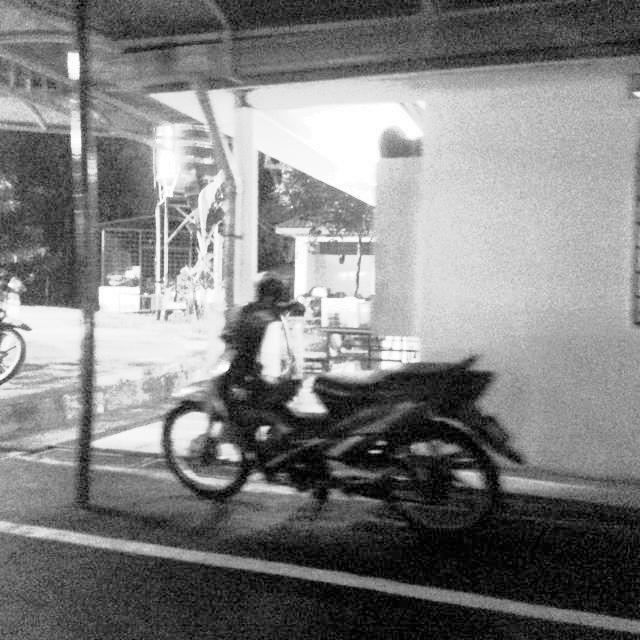Motorcycle: (161, 269, 520, 543), (1, 255, 36, 400)
